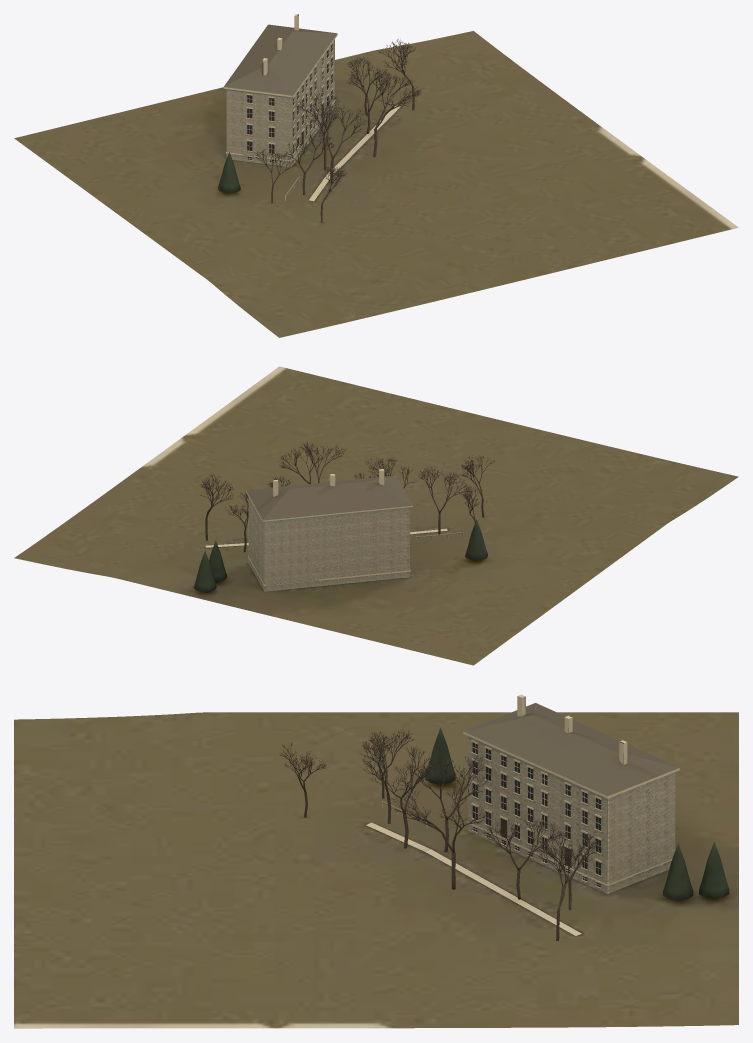
File: muir-north-hall-mobile.glb
3 views of the same model, one above another, from view 1: azimuth 30°, elevation 25°; view 2: azimuth 150°, elevation 25°; view 3: azimuth 270°, elevation 25° (orthographic). The views are drawn at different scales.
Visible parts, largest first — view 1: lawn, artifact_north_hall, artifact_bare_trees, roof, windows_and_doors, boardwalk; view 2: lawn, artifact_north_hall, artifact_bare_trees, roof, cornice_bands; view 3: lawn, artifact_north_hall, artifact_bare_trees, roof, windows_and_doors, boardwalk, cornice_bands.
Boxes of the visible parts, x1,y1,x2,y2 form: lawn: (14, 31, 738, 337); artifact_north_hall: (226, 39, 334, 167); artifact_bare_trees: (218, 39, 421, 222); roof: (224, 24, 337, 95); windows_and_doors: (246, 41, 333, 163); boardwalk: (309, 105, 401, 201); lawn: (14, 366, 738, 665); artifact_north_hall: (248, 497, 409, 591); artifact_bare_trees: (193, 441, 494, 592); roof: (246, 475, 412, 519); cornice_bands: (246, 491, 412, 586); lawn: (14, 712, 738, 1028); artifact_north_hall: (468, 736, 675, 894); artifact_bare_trees: (279, 727, 729, 940); roof: (463, 703, 679, 796); windows_and_doors: (471, 740, 601, 888); boardwalk: (366, 822, 581, 935); cornice_bands: (463, 731, 679, 886).
Size of what is drawn, in the model's own units: 100 by 21.7 by 100.
Materials: 3 (2 with a texture image).
